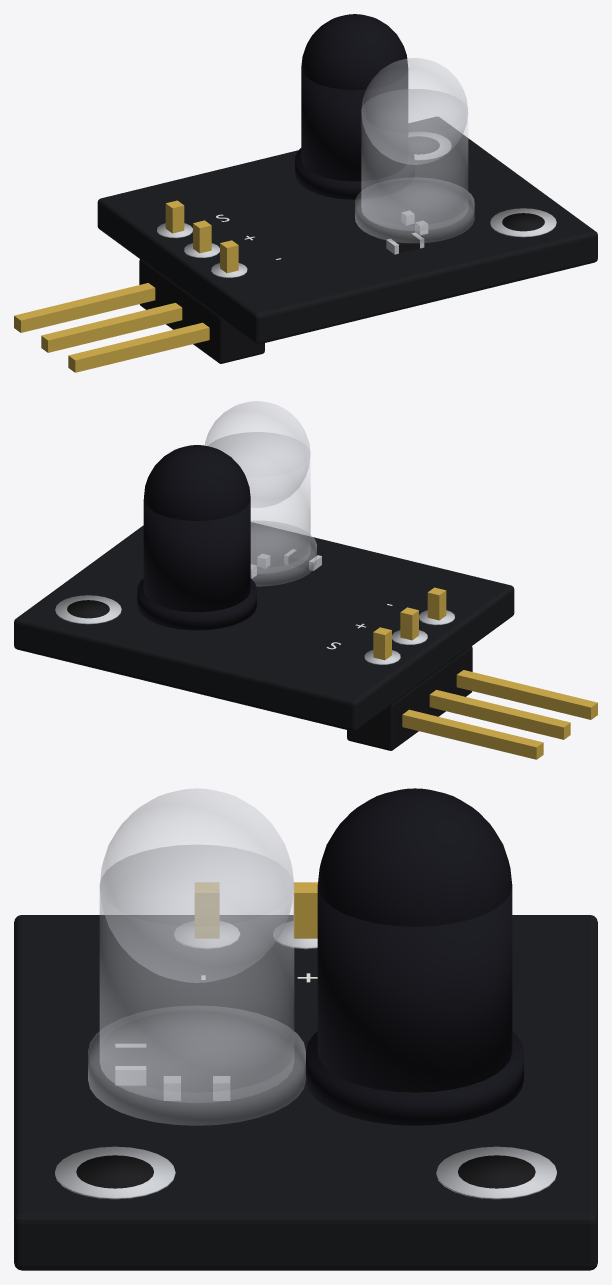
File: heartbeat-sensor.glb
3 views of the same model, one above another, from view 1: azimuth 30°, elevation 25°; view 2: azimuth 150°, elevation 25°; view 3: azimuth 270°, elevation 25° (orthographic). The views are drawn at different scales.
Parts seen in each view (by area): view 1: pcb.023, led_body.004, led_body.005, led_dome.004, led_rim.004, led_dome.005, header.023, pin_h.078, pin_h.080, pin_h.079, led_rim.005, hole_ring.038 (+5 smaller); view 2: pcb.023, led_body.005, led_body.004, led_dome.004, led_dome.005, header.023, led_rim.004, pin_h.080, pin_h.078, pin_h.079, led_rim.005, hole_ring.037 (+4 smaller); view 3: pcb.023, led_body.004, led_body.005, led_dome.004, led_rim.004, led_dome.005, led_rim.005, hole_ring.037, hole_ring.038, hole.037, hole.038, pin_v.080 (+3 smaller).
Part boxes in pixels (x1,y1,x2,y2): pcb.023: [97, 117, 597, 344]; led_body.004: [361, 89, 467, 230]; led_body.005: [301, 66, 408, 181]; led_dome.004: [361, 58, 467, 164]; led_rim.004: [355, 177, 474, 242]; led_dome.005: [301, 14, 408, 89]; header.023: [139, 259, 264, 363]; pin_h.078: [14, 283, 155, 332]; pin_h.080: [68, 322, 209, 372]; pin_h.079: [41, 303, 182, 352]; led_rim.005: [295, 148, 414, 199]; hole_ring.038: [490, 208, 556, 237]; pcb.023: [14, 522, 514, 731]; led_body.005: [143, 498, 250, 612]; led_body.004: [208, 432, 310, 573]; led_dome.004: [205, 401, 310, 507]; led_dome.005: [143, 445, 250, 520]; header.023: [347, 646, 472, 750]; led_rim.004: [251, 521, 316, 586]; pin_h.080: [456, 670, 597, 719]; pin_h.078: [402, 709, 543, 759]; pin_h.079: [429, 690, 570, 739]; led_rim.005: [137, 578, 256, 630]; hole_ring.037: [55, 595, 121, 624]; pcb.023: [14, 915, 597, 1270]; led_body.004: [100, 845, 293, 1102]; led_body.005: [317, 886, 512, 1092]; led_dome.004: [100, 788, 293, 982]; led_rim.004: [88, 1005, 305, 1125]; led_dome.005: [317, 788, 512, 926]; led_rim.005: [306, 1031, 523, 1125]; hole_ring.037: [436, 1146, 556, 1199]; hole_ring.038: [55, 1146, 175, 1199]; hole.037: [458, 1155, 535, 1188]; hole.038: [76, 1155, 153, 1188]; pin_v.080: [195, 882, 219, 938].
Bounding box in the file's own units: 0.0256 × 0.0126 × 0.015.
